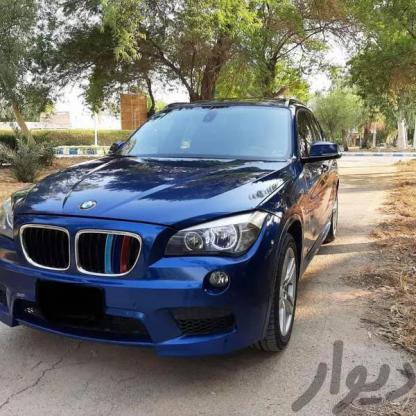Car: (0, 87, 337, 357)
